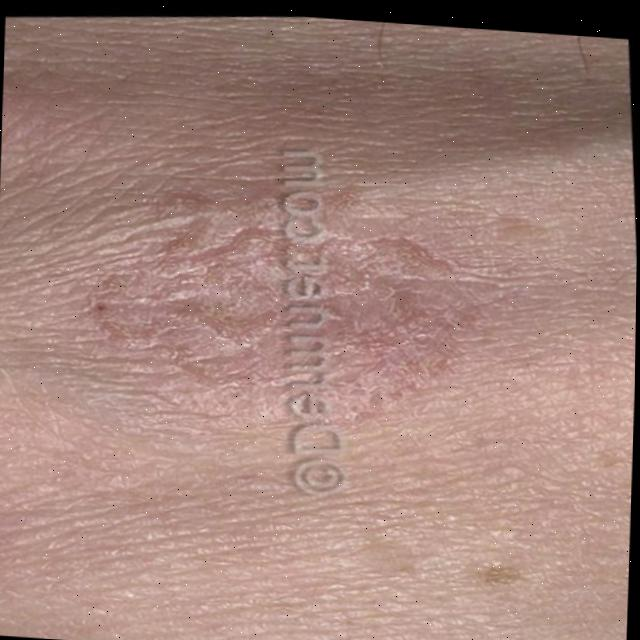Eczema: (90, 150, 492, 432)
